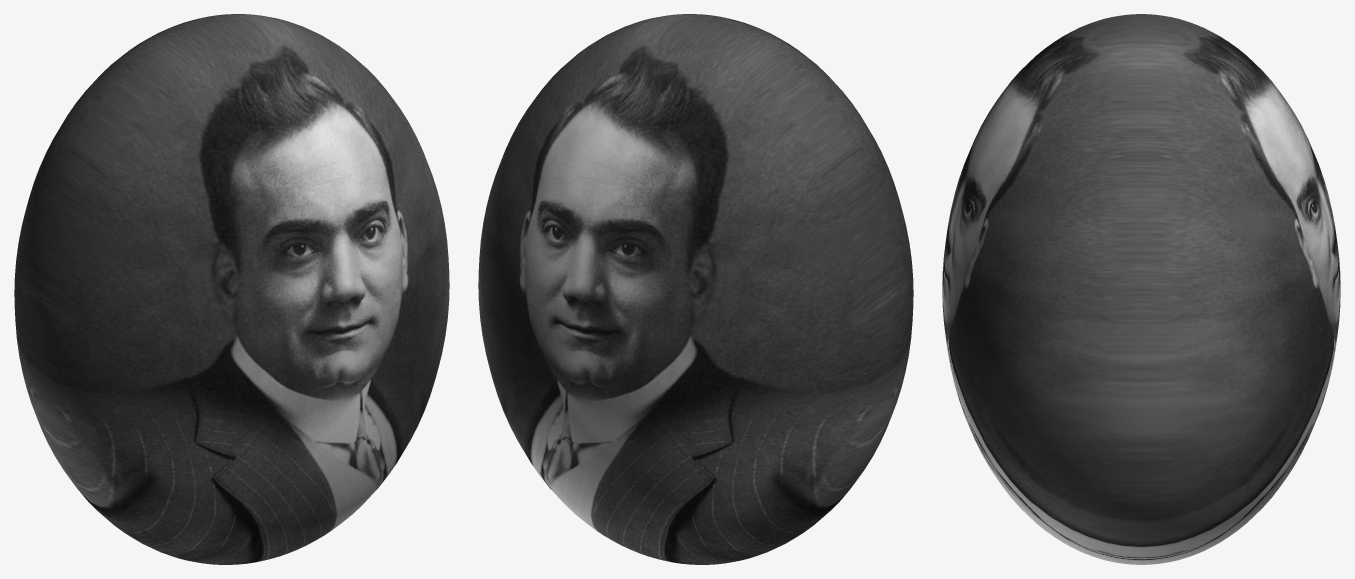
3 views of the same model, side by side, from view 1: azimuth 30°, elevation 25°; view 2: azimuth 150°, elevation 25°; view 3: azimuth 270°, elevation 25° (orthographic).
Visible parts, largest first — view 1: head; view 2: head; view 3: head.
Boxes of the visible parts, x1=… form: head: x1=14, y1=14, x2=449, y2=564; head: x1=478, y1=14, x2=913, y2=564; head: x1=942, y1=14, x2=1340, y2=564.
Bounding box in the file's own units: 1.55 × 2 × 1.39.
1 material, 1 textured.
